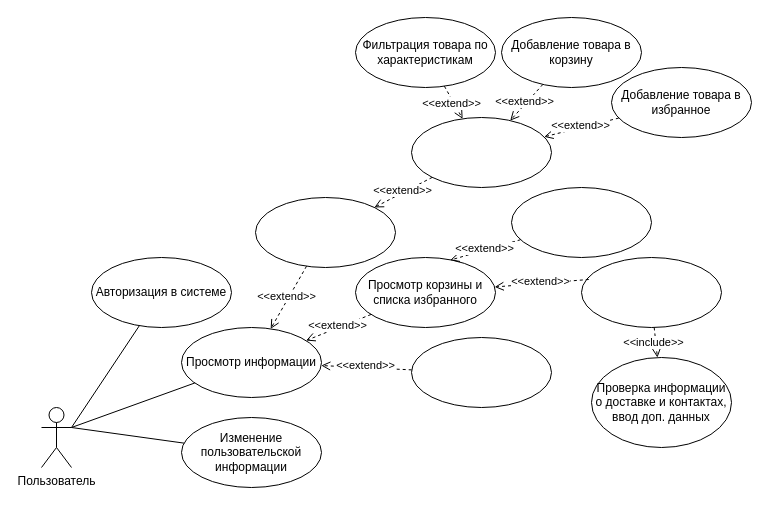
The diagram is 769 pixels wide and 506 high, and some of its shapes have lost their labels. Each missing label, with the centre of its shape:
Оформление заказа: pixel 651 292
Просмотр и выбор категории товара: pixel 325 232
Просмотр списка заказов (оплаченных и не оплаченных): pixel 481 372
Просмотр товаров выбранной категории: pixel 481 152
Удаление товара из корзины или из избранного: pixel 581 222
